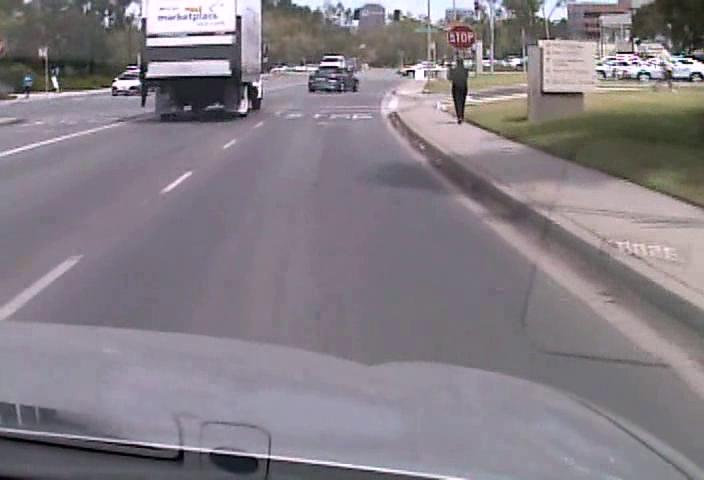stop: (446, 24, 475, 51)
